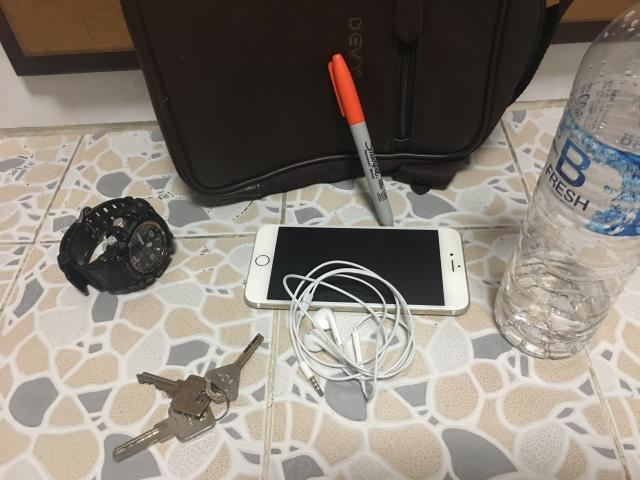Keys: (112, 334, 264, 461)
Mobile phone: (245, 225, 470, 315)
Pen: (328, 54, 394, 226)
Watch: (58, 196, 172, 294)
bottle: (495, 5, 640, 359)
wire: (284, 260, 415, 400)
